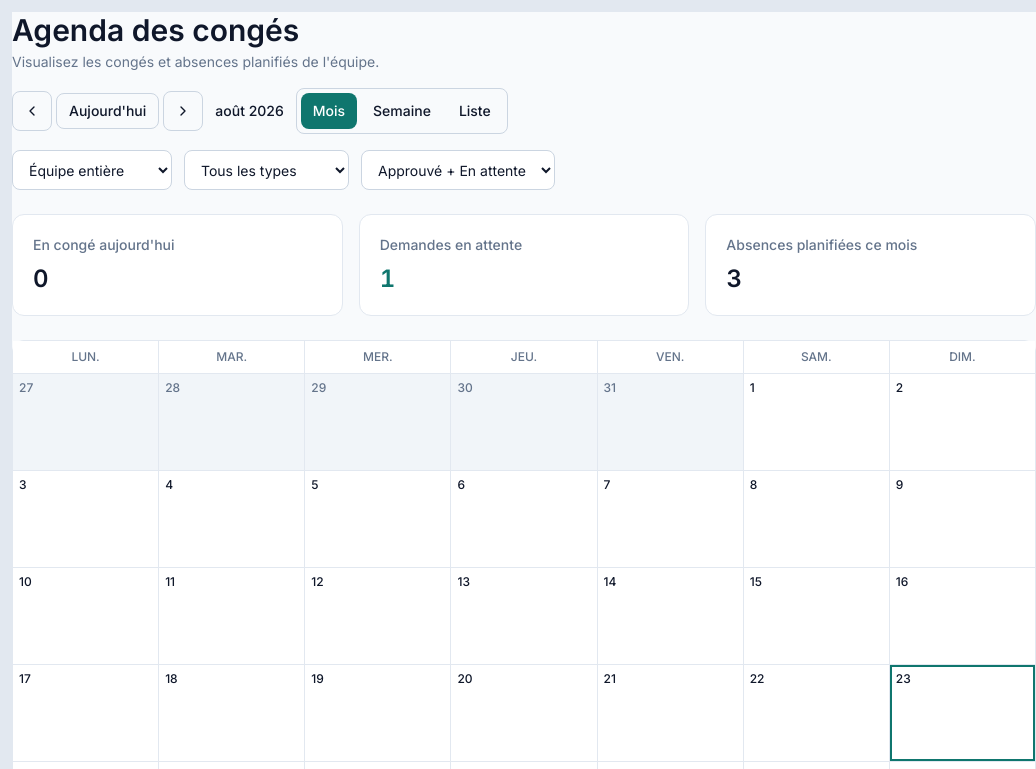
Scenario: TeamLeaveCalendarPage — navigation (task §40 7-9, §13) › Next/Previous/Today navigate the visible month deterministically
This screenshot has width=1036, height=769.
Expected: the text "août 2026" is shown, [215,101,284,121]
Click the button named "Période suivante". click: coordinates (183, 111)
box: [163,91,203,131]
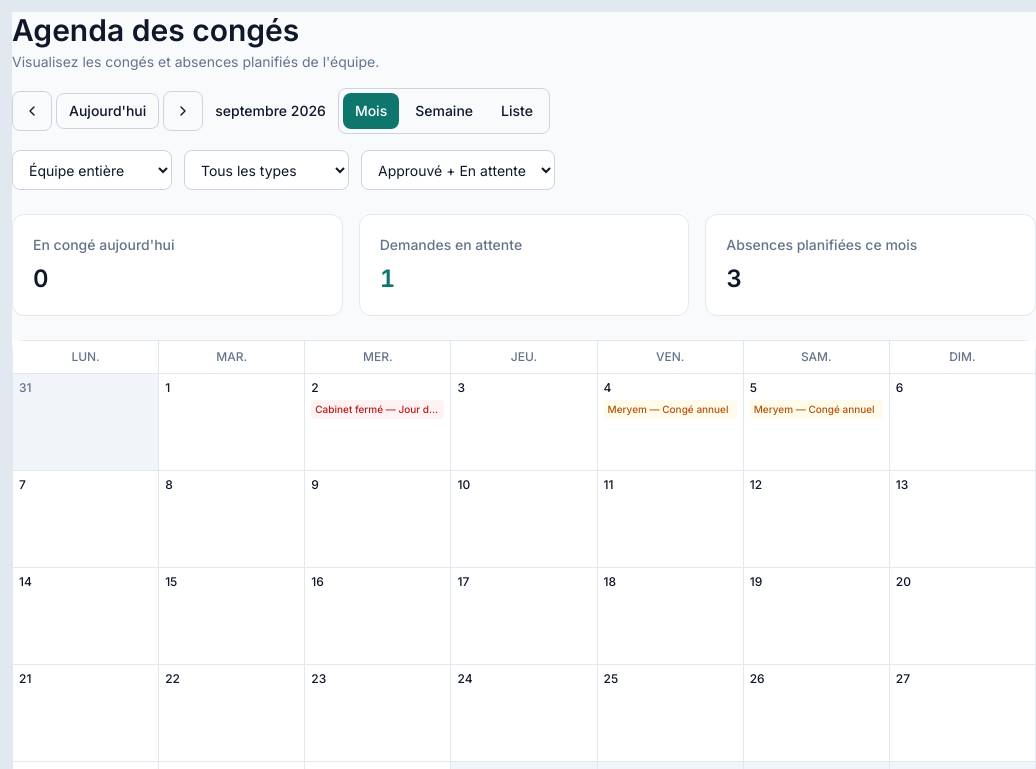
Expected: the text "septembre 2026" is shown, [215,101,326,121]
Click the button "Aujourd'hui". click: coordinates (108, 111)
box: [56,93,159,129]
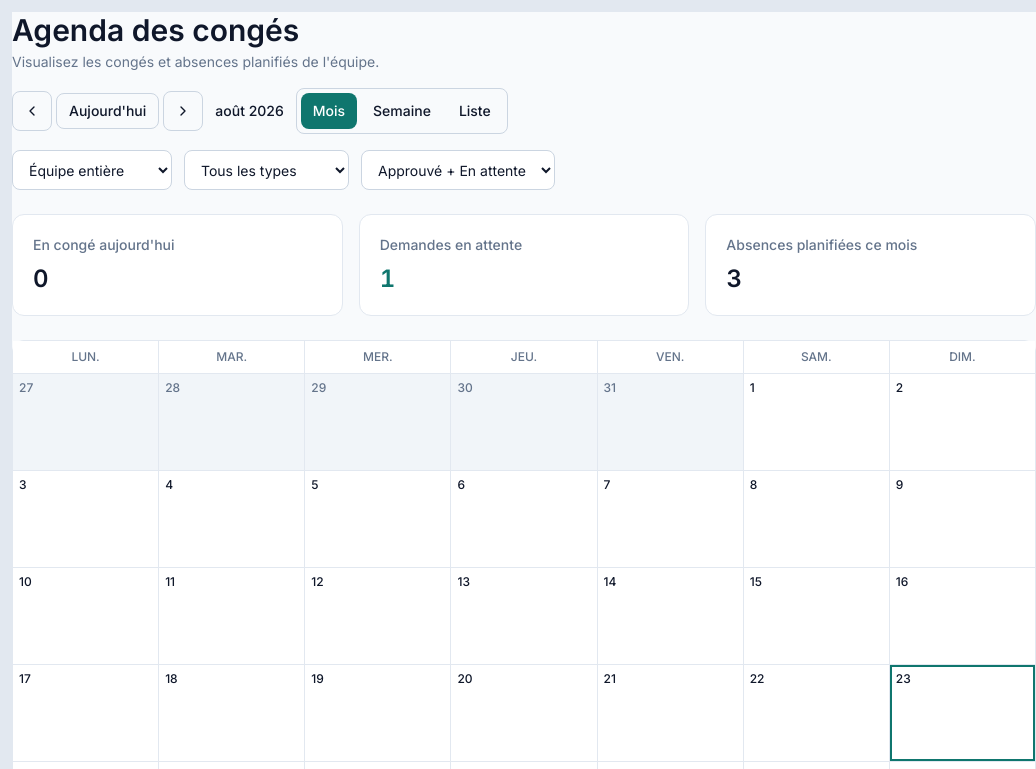
Expected: the text "août 2026" is shown, [215,101,284,121]
Click the button named "Période précédente". click: coordinates (32, 111)
box: [12,91,52,131]
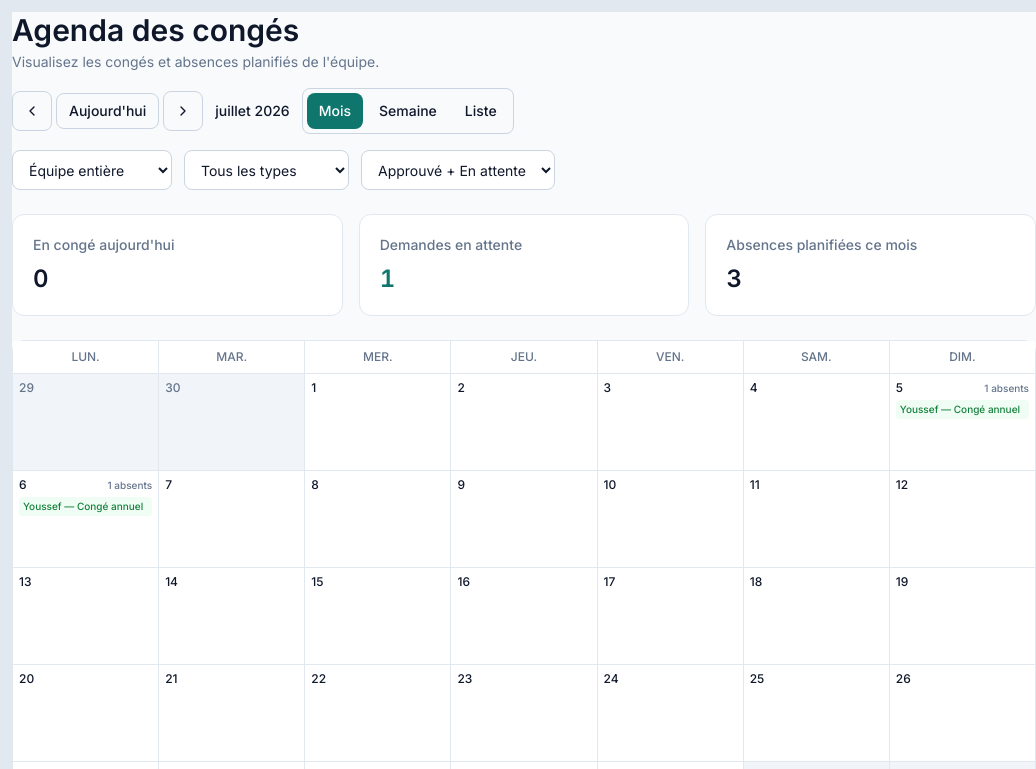
Expected: the text "juillet 2026" is shown, [215,101,290,121]
